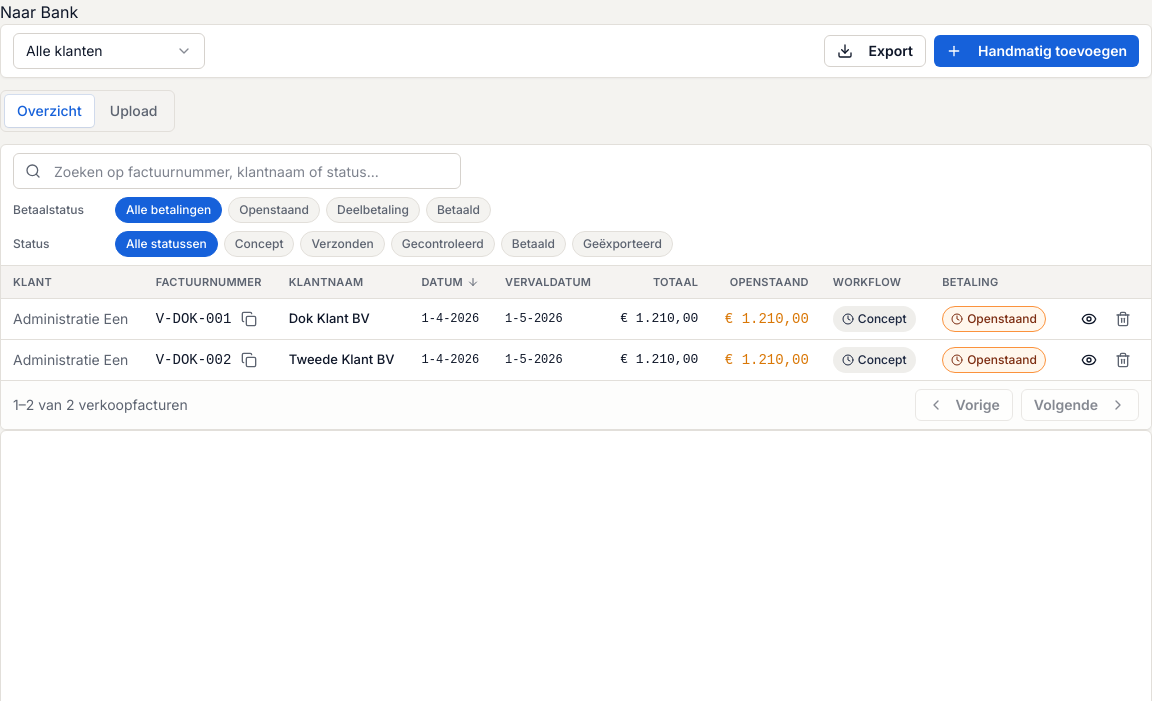
Test: Verkoop — desktop detaildok (>= 1360px) › navigeert gewoon zonder niet-opgeslagen invoer
Click the 2nd row at (576, 318), box [1,298,1151,339]
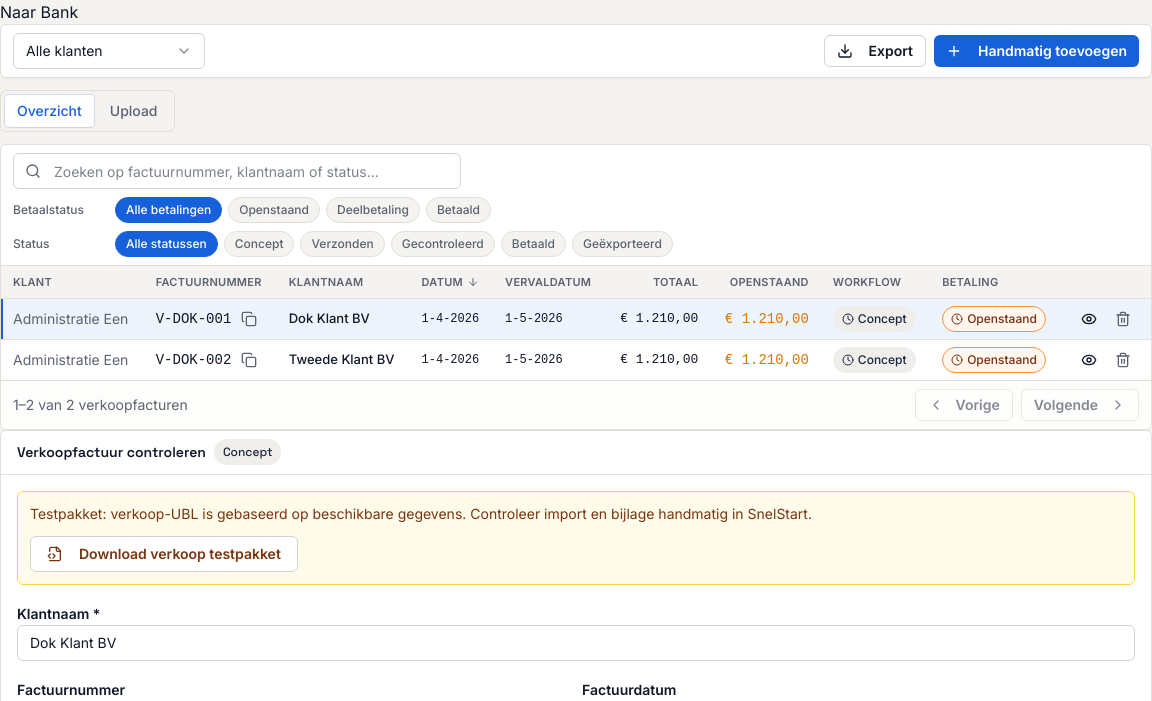
Click the link "Naar Bank" at (39, 12), box [0,2,78,22]
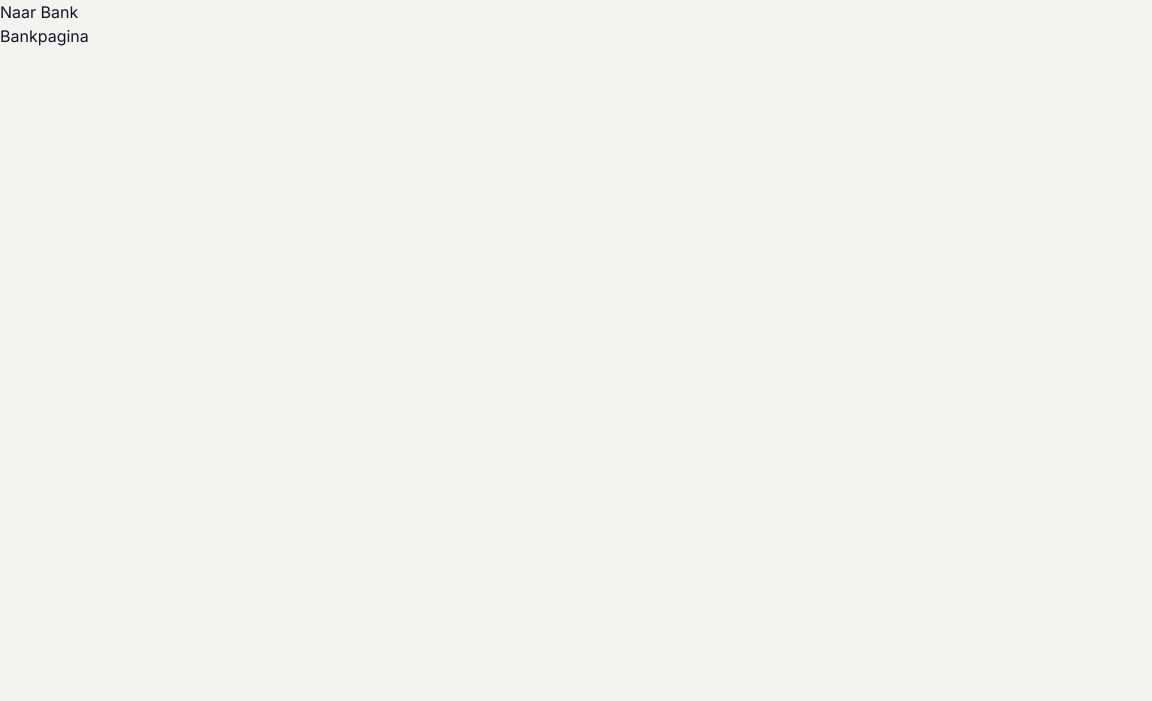
Expected: the text "Bankpagina" is shown, [0,26,89,46]
